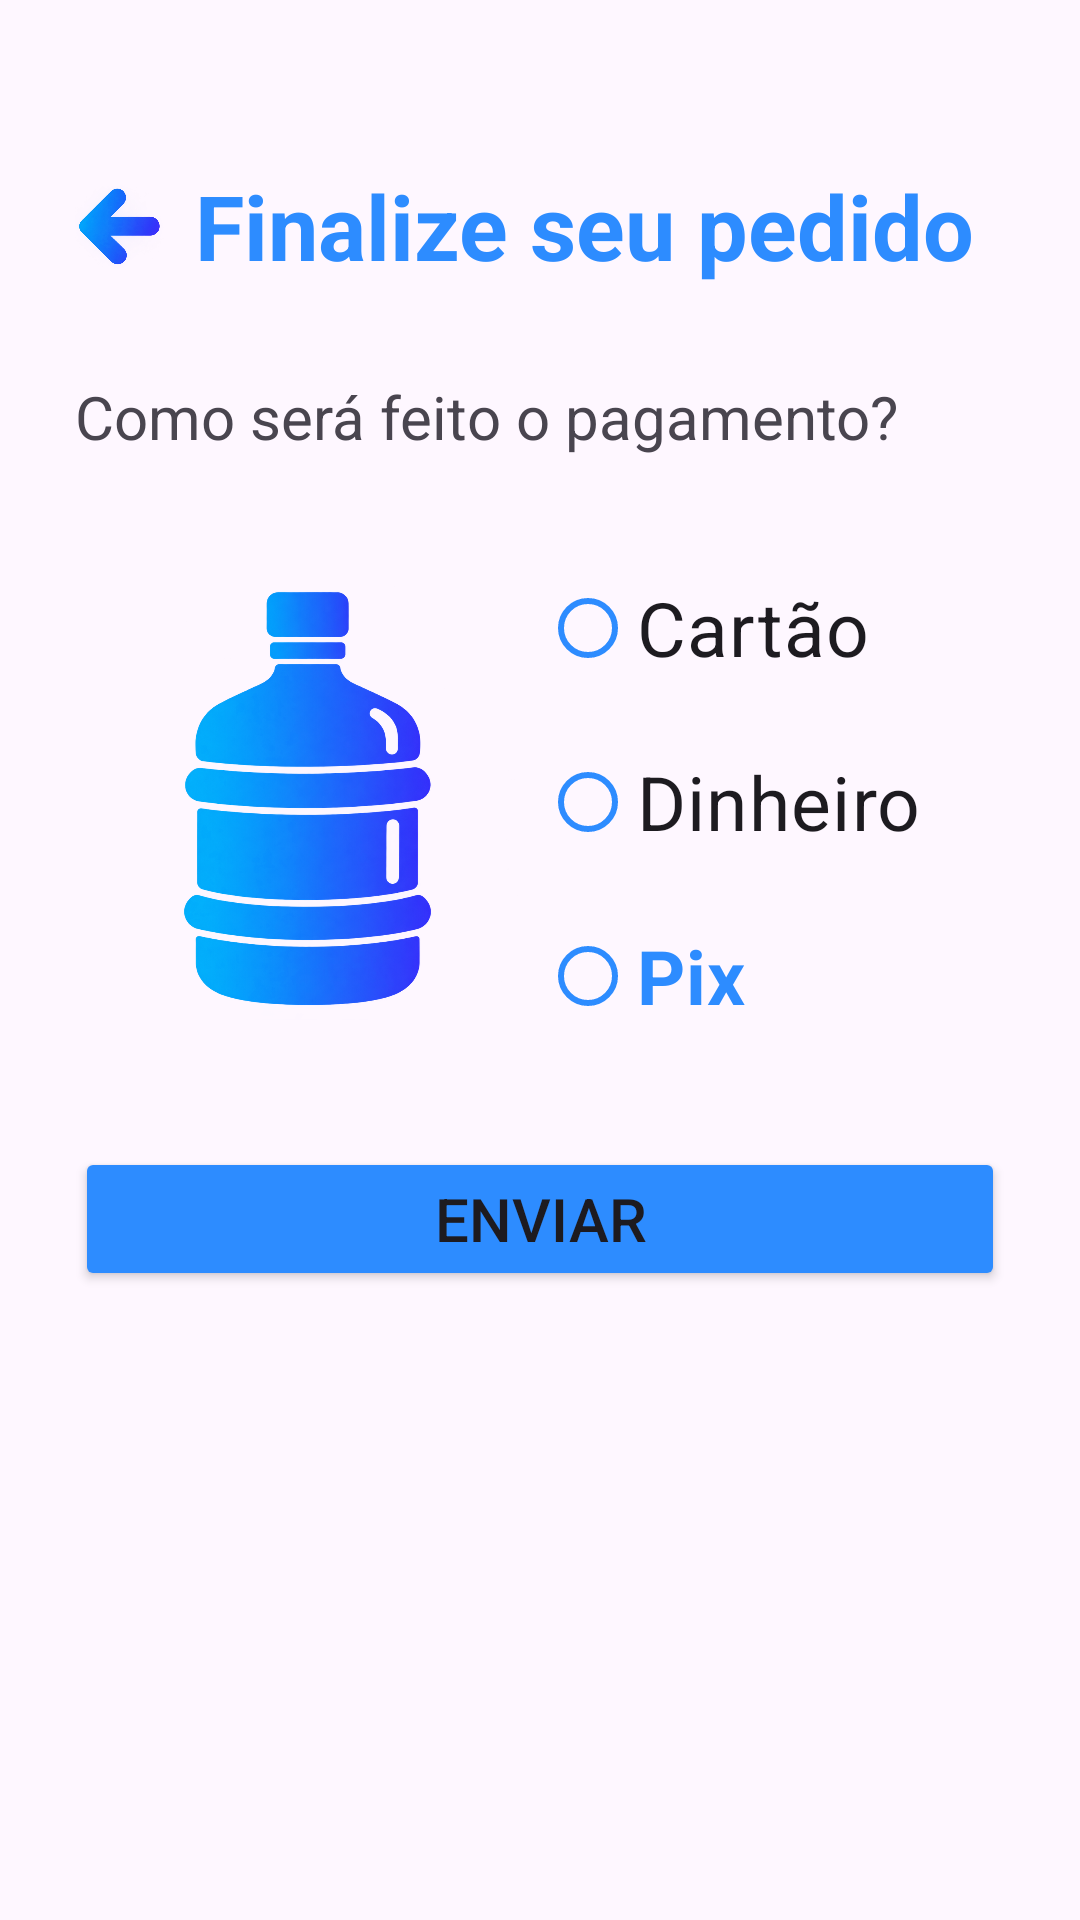

Named icons in this screenshot (1080 x 1920) and their centers, [x,y]:
seta: [119,226]
